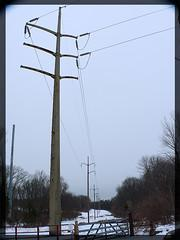power_tower: (22, 4, 109, 239)
